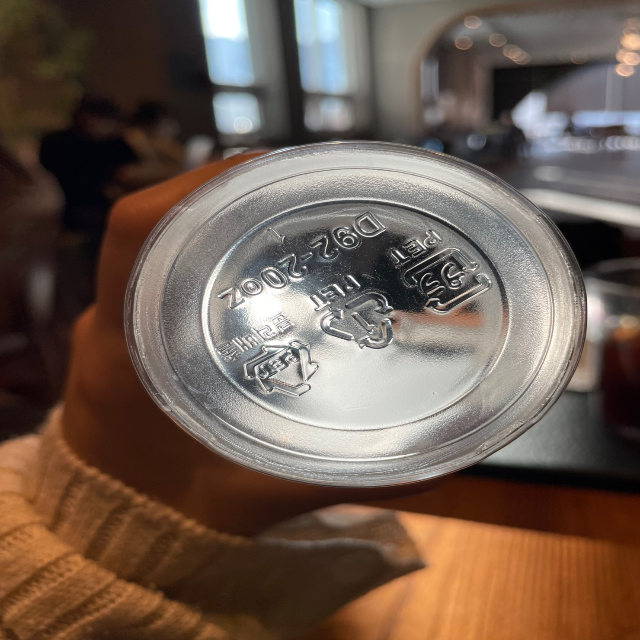pet: (207, 307, 320, 400), (384, 223, 497, 316), (306, 273, 399, 354)
